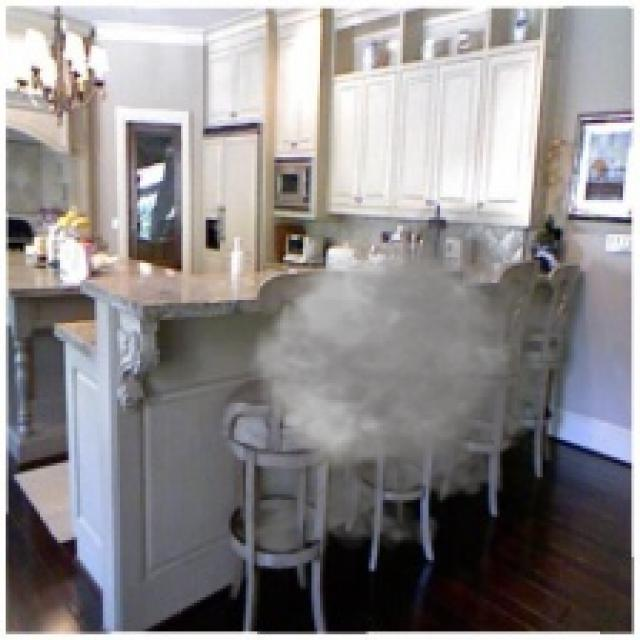smoke: (180, 186, 586, 571)
